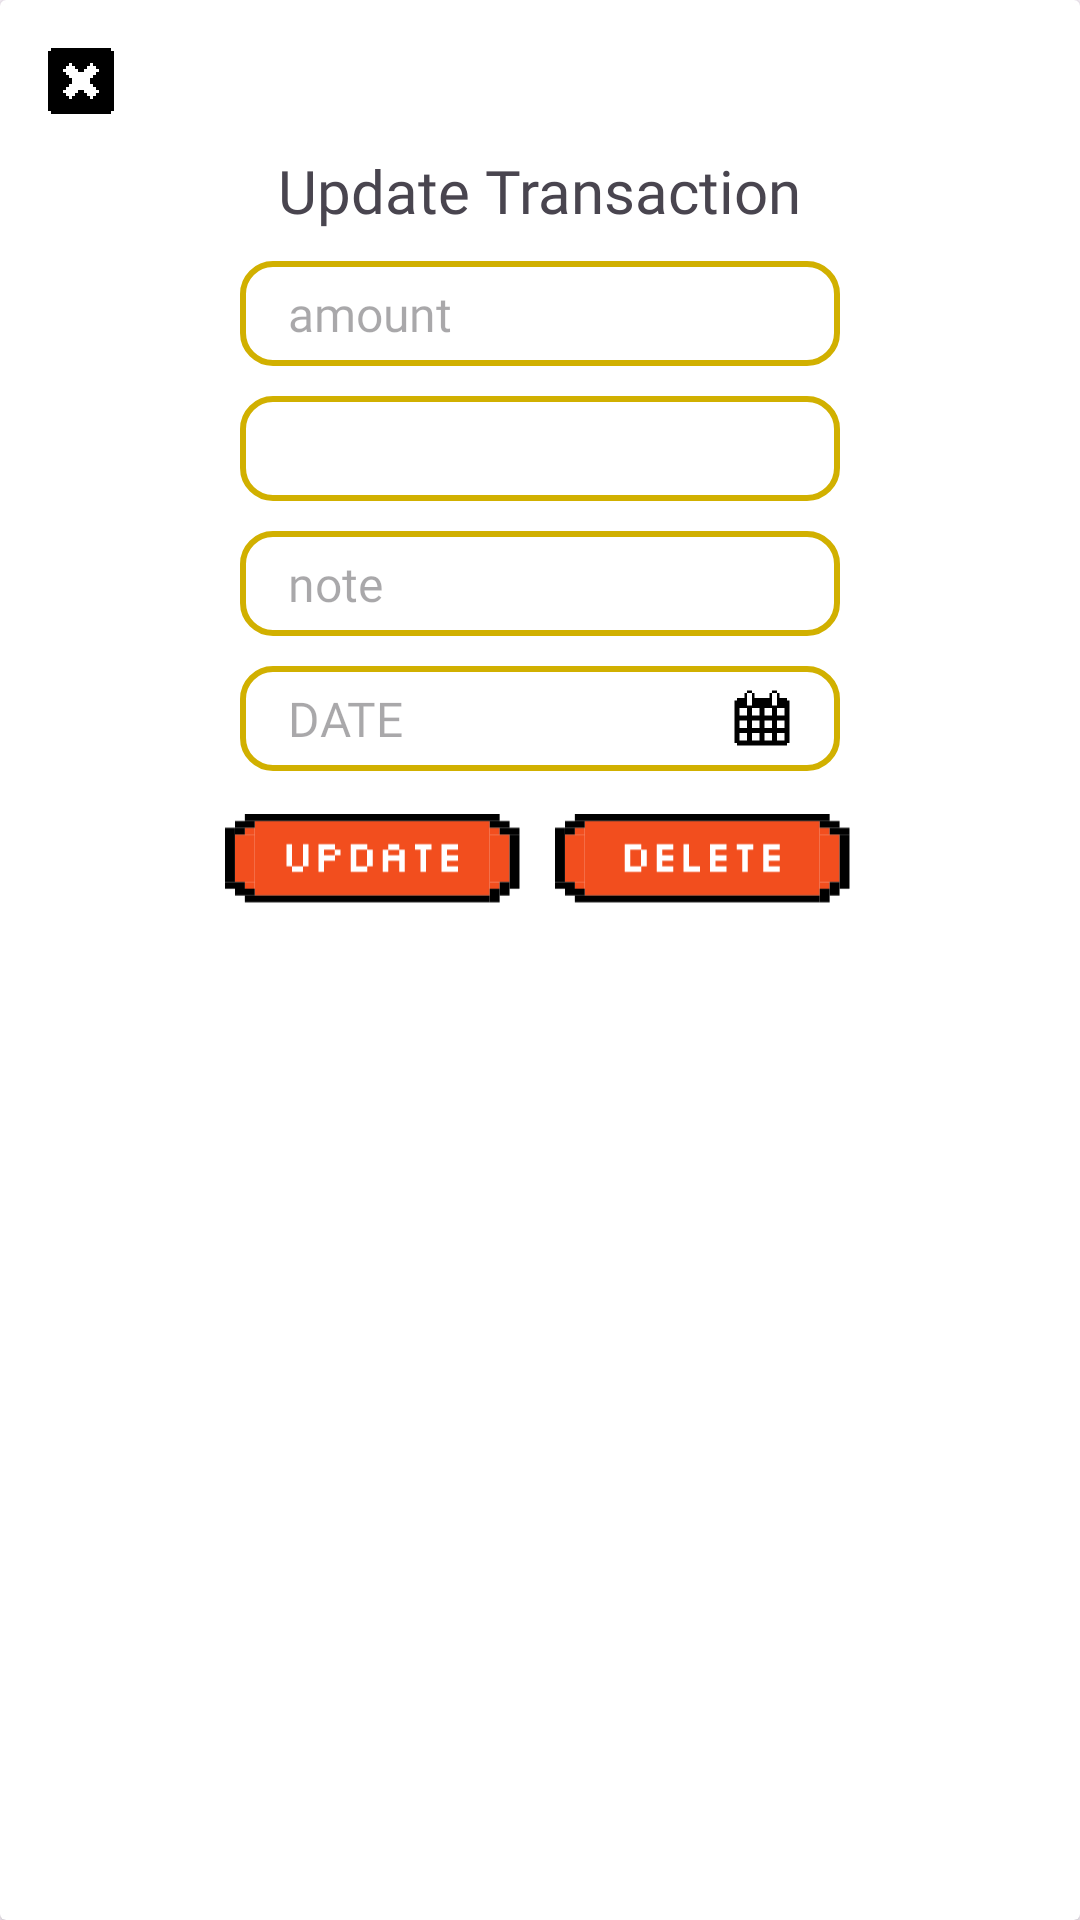

Where icons sit on this 1080×1920 app screen, as (x1, y1, x2, y2):
window close: (48, 48, 114, 114)
